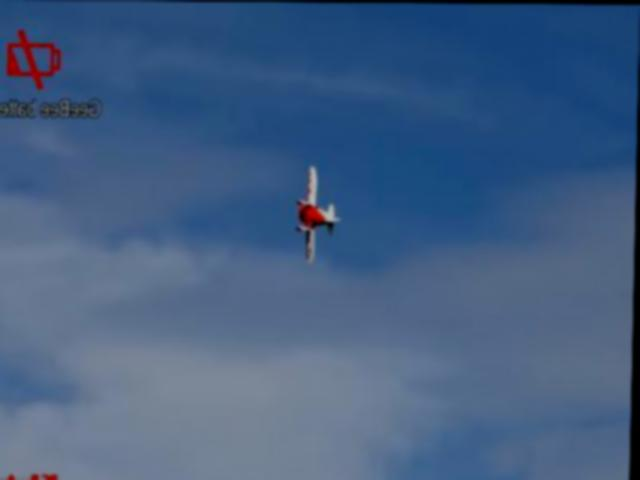uav: (294, 160, 344, 266)
